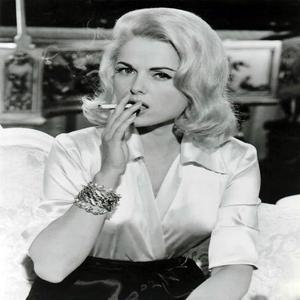cigarette: (93, 102, 146, 113)
